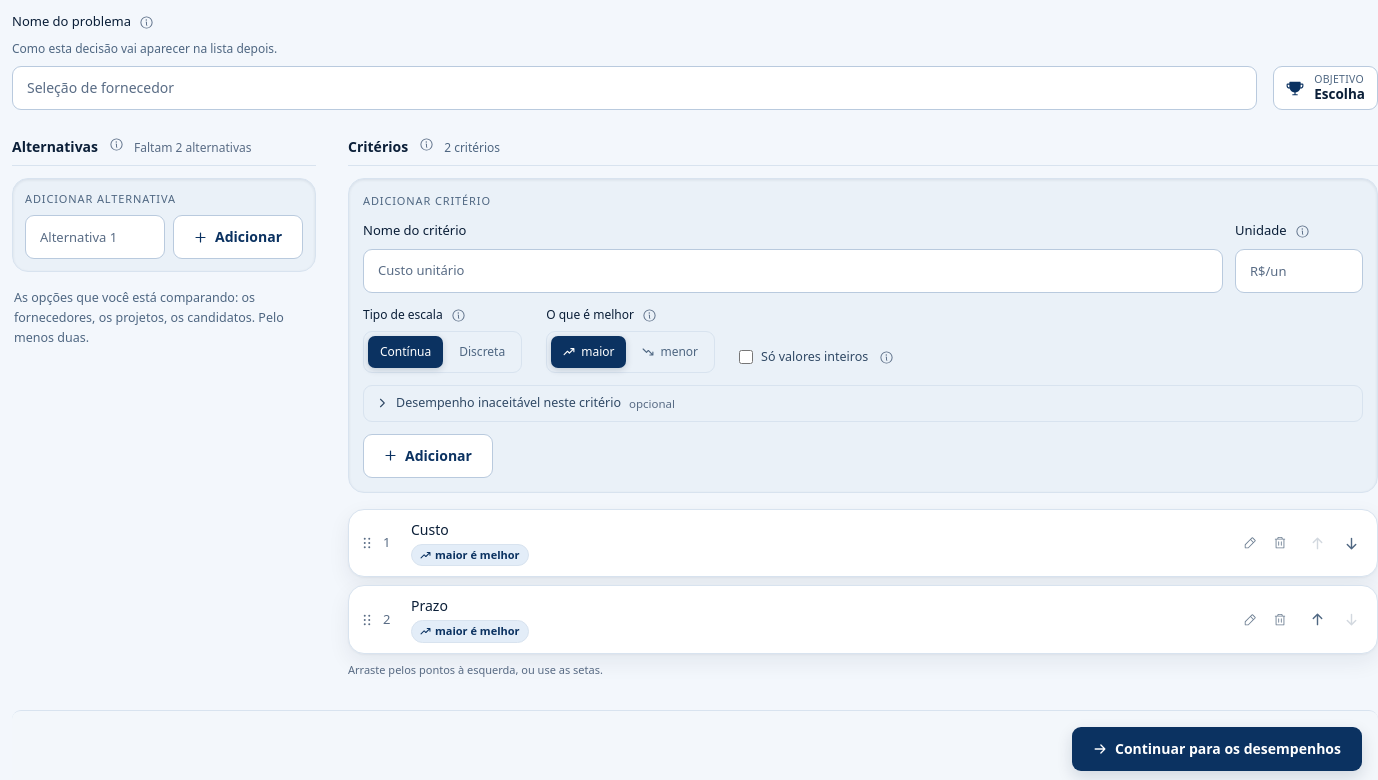
it: o formulário do critério em edição › excluir o critério em edição devolve o formulário em branco
Click the button named "Editar Custo". click: (1250, 543)
box: [1237,530,1263,556]
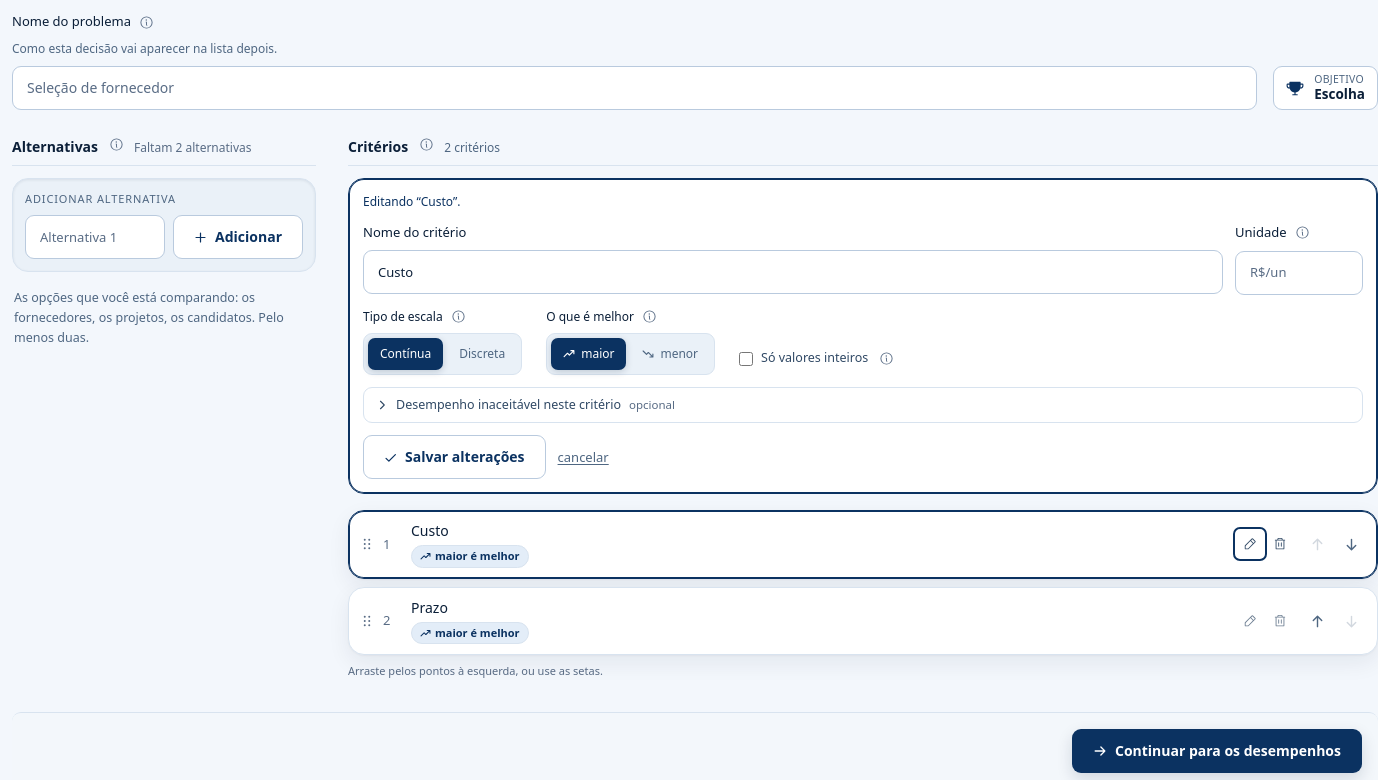
Click the button named "Excluir Custo". click: (1280, 544)
box: [1267,532,1293,558]
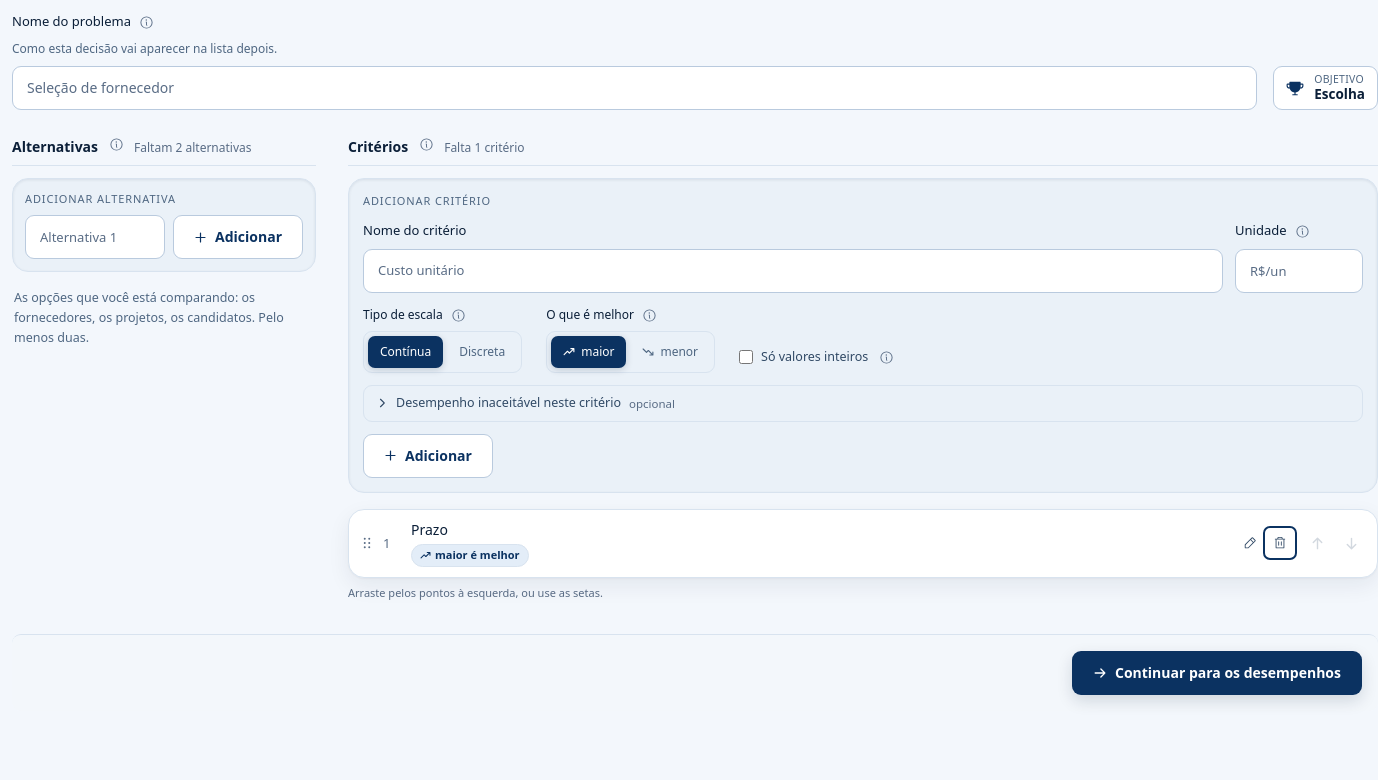
Expected: the field labelled "Nome do critério" is empty, [363,248,1223,292]
Expected: the button "Adicionar" below "Tipo de escala" is shown, [363,434,493,478]
